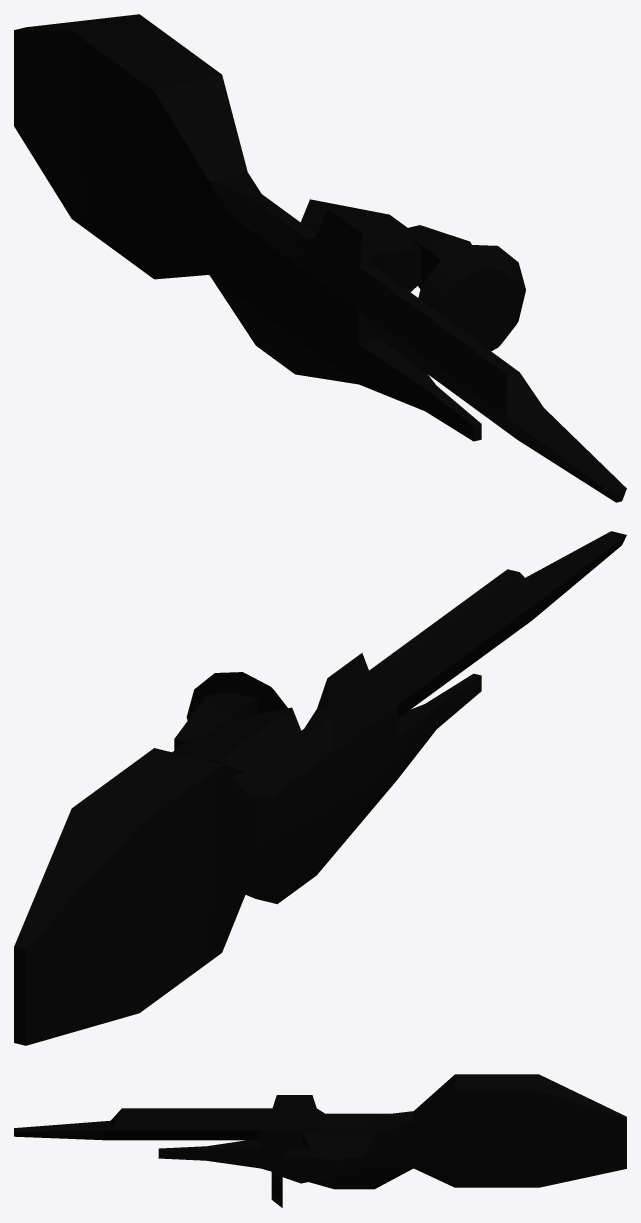
File: sensor_hgn_m_02_t1.glb
The picture shows the model from 3 angles, top to bottom: view 1: azimuth 30°, elevation 25°; view 2: azimuth 150°, elevation 25°; view 3: azimuth 270°, elevation 25°; orthographic projection. The views are drawn at different scales.
Visible parts, largest first — view 1: sensor_m_02_LOD0; view 2: sensor_m_02_LOD0; view 3: sensor_m_02_LOD0.
Part boxes in pixels (<box>): sensor_m_02_LOD0: <box>14,14,626,502</box>; sensor_m_02_LOD0: <box>14,531,626,1045</box>; sensor_m_02_LOD0: <box>14,1074,626,1207</box>.
Size of the model in its own units: 0.4787 by 0.4553 by 2.44.
Materials: 1 (1 with a texture image).
